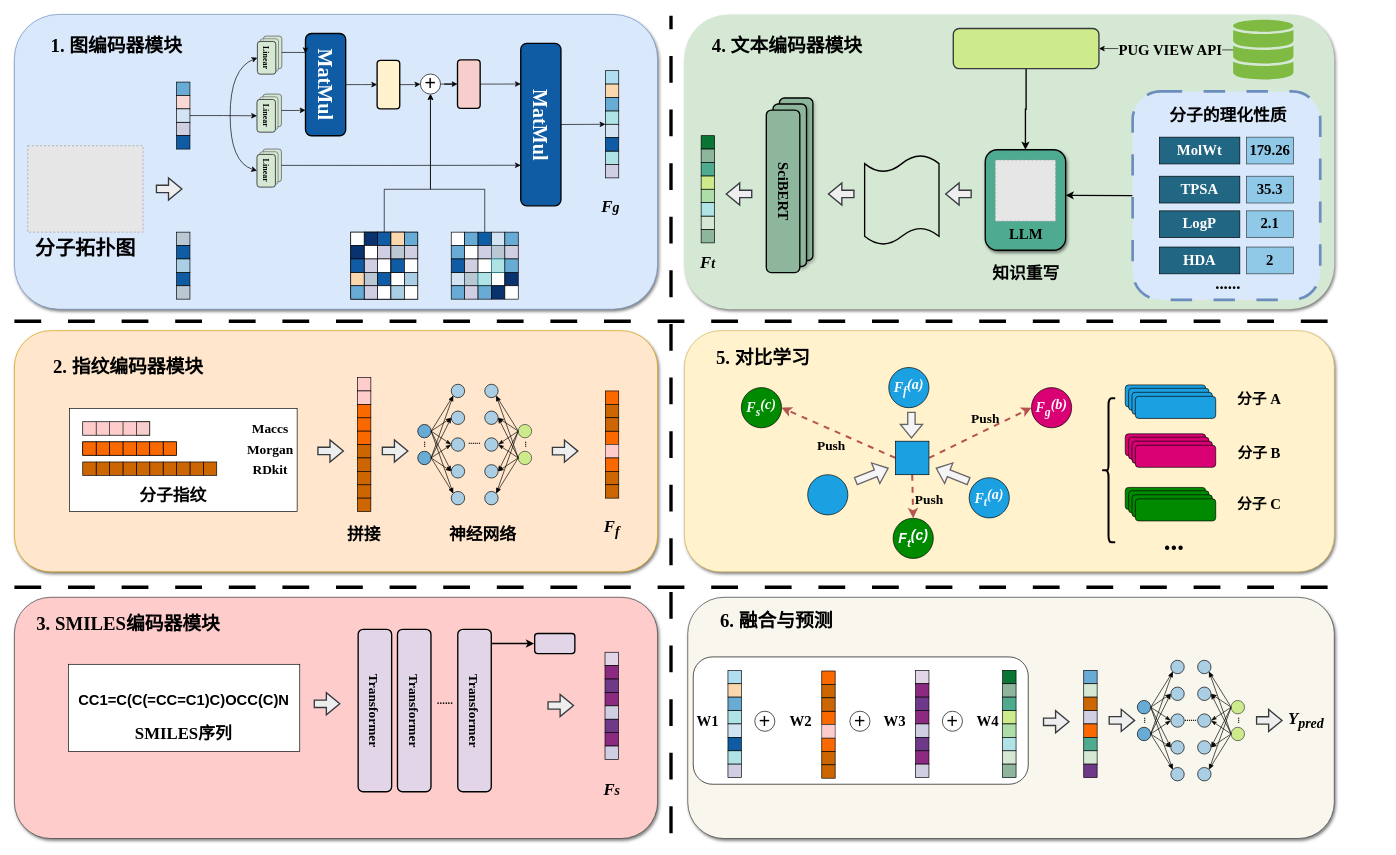
This 1396x855 diagram has some shape labels left out. Grey dashed boxes stand in for pictures. The shapes that lost their labels are listed below. From the top down, each one's centre as x and y in pixels, then its label:
At (1025,48): "Text Data".
At (388,84): "Scale".
At (469,84): "SoftMax".
At (901,199): "This molecule is an aromatic ether and primary amino compound......".
At (912,458): "F g (a)".
At (827,494): "F s (a)".
At (554,643): "CLS".
